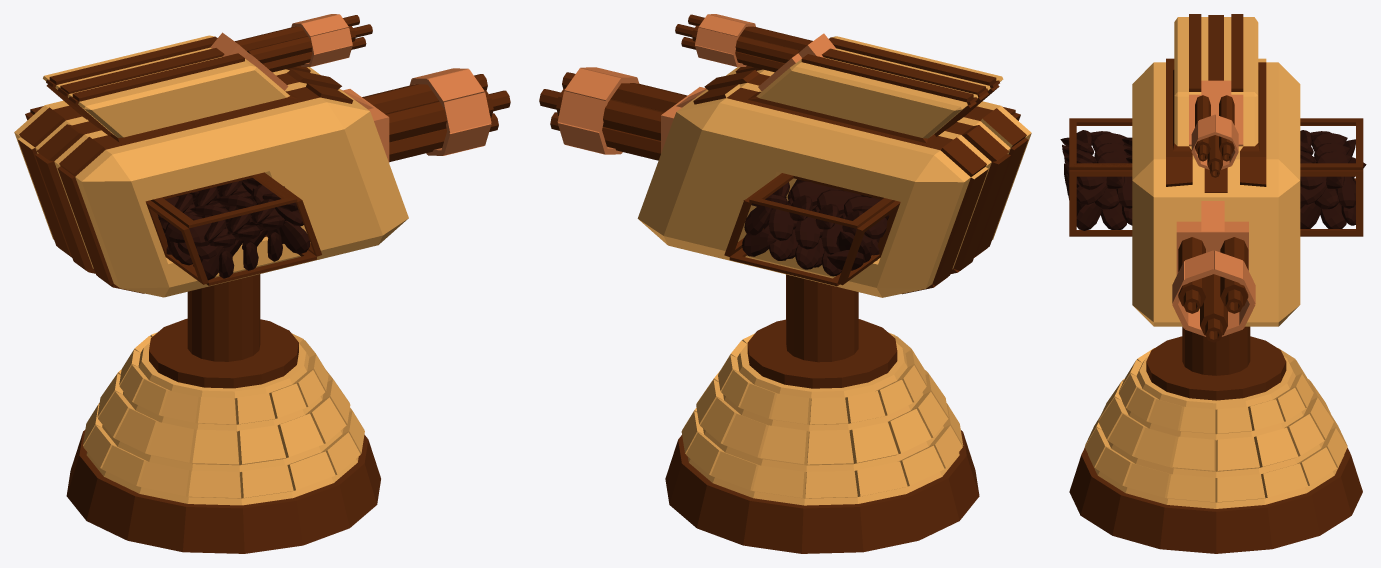
The model's file is CekirdekAtarSv2Model.fbx.
3 views of the same model, side by side, from view 1: azimuth 30°, elevation 25°; view 2: azimuth 150°, elevation 25°; view 3: azimuth 270°, elevation 25° (orthographic). The views are drawn at different scales.
Parts seen in each view (by area): view 1: cekırdekatar_ust.003, parentli kurdanatar.017, cekrdekatar_on.003, cekrdekatar_on.004; view 2: cekırdekatar_ust.003, parentli kurdanatar.017, cekrdekatar_on.003, cekrdekatar_on.004; view 3: cekırdekatar_ust.003, parentli kurdanatar.017, cekrdekatar_on.003, cekrdekatar_on.004.
Boxes of the visible parts, left/top/right/bottom form: cekırdekatar_ust.003: left=14, top=32, right=408, bottom=297; parentli kurdanatar.017: left=66, top=274, right=380, bottom=553; cekrdekatar_on.003: left=362, top=68, right=510, bottom=161; cekrdekatar_on.004: left=235, top=14, right=372, bottom=72; cekırdekatar_ust.003: left=637, top=33, right=1031, bottom=297; parentli kurdanatar.017: left=665, top=274, right=979, bottom=553; cekrdekatar_on.003: left=539, top=67, right=687, bottom=160; cekrdekatar_on.004: left=675, top=14, right=812, bottom=72; cekırdekatar_ust.003: left=1060, top=14, right=1366, bottom=326; parentli kurdanatar.017: left=1069, top=326, right=1362, bottom=553; cekrdekatar_on.003: left=1172, top=237, right=1255, bottom=342; cekrdekatar_on.004: left=1191, top=95, right=1238, bottom=177.
Bounding box in the file's own units: 329 × 311 × 209.
Materials: 4 (4 with a texture image).
